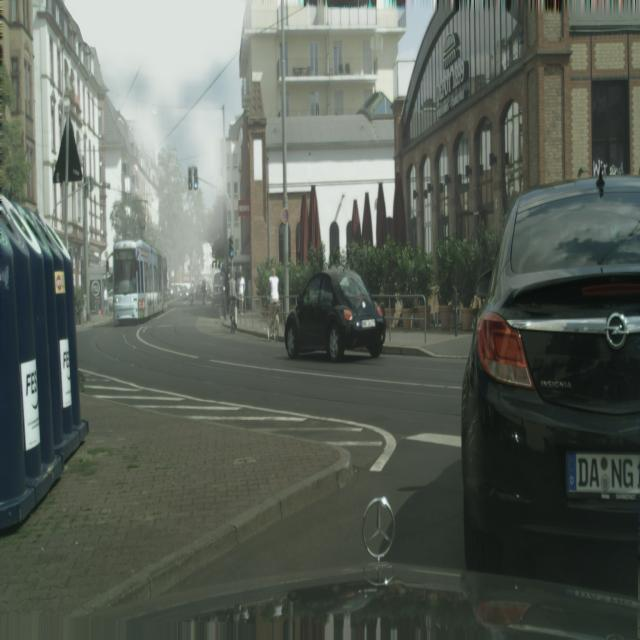bicycle: (113, 239, 167, 323)
bus: (266, 267, 280, 340), (228, 270, 238, 329), (237, 267, 245, 316), (202, 279, 206, 308)
person: (460, 166, 640, 581), (284, 269, 386, 362)
